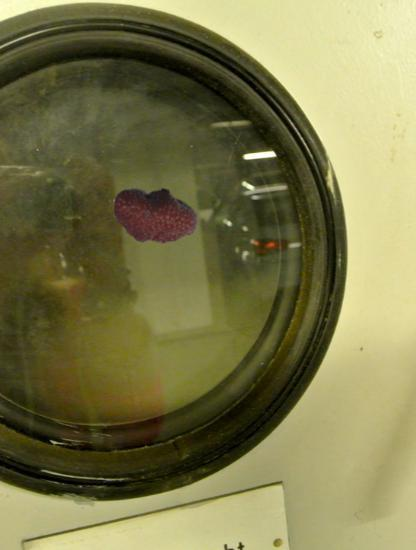Strawberry: (111, 171, 200, 260)
